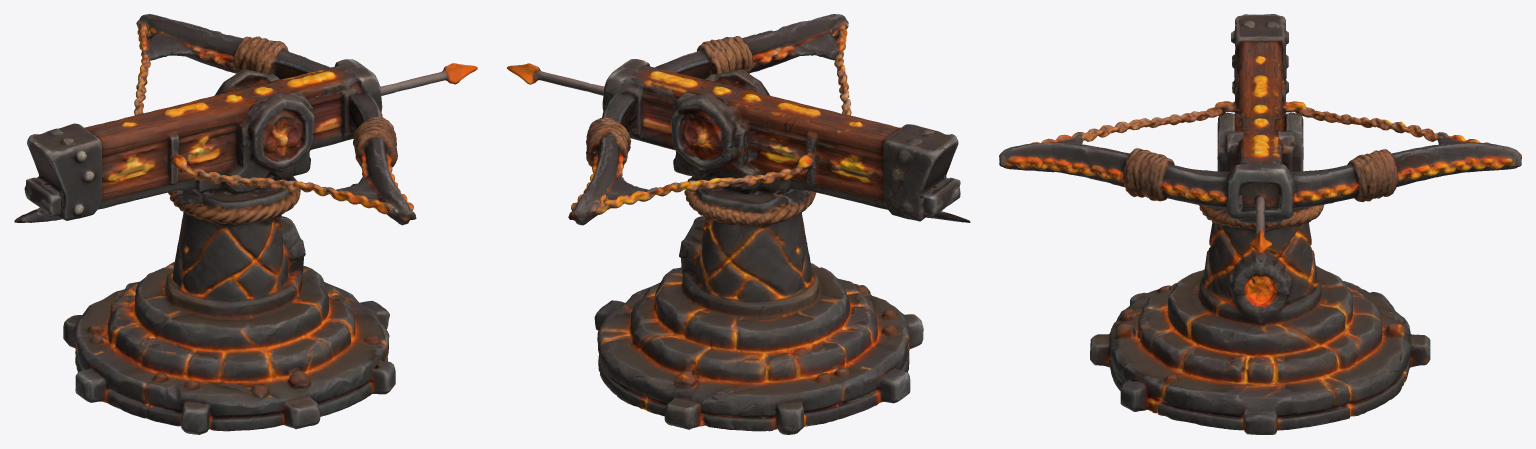
The model's file is xbow_fiery_high_tquality.glb.
3 views of the same model, side by side, from view 1: azimuth 30°, elevation 25°; view 2: azimuth 150°, elevation 25°; view 3: azimuth 270°, elevation 25° (orthographic). The views are drawn at different scales.
Visible parts, largest first — view 1: Base, Head; view 2: Base, Head; view 3: Base, Head.
Part boxes in pixels (x1,y1,x2,y2): Base: (63, 174, 395, 434); Head: (14, 14, 477, 225); Base: (594, 175, 923, 434); Head: (507, 14, 970, 225); Base: (1090, 205, 1430, 434); Head: (999, 14, 1521, 253).
Bounding box in the file's own units: 1.91 × 1.08 × 1.91.
Materials: 1 (1 with a texture image).
